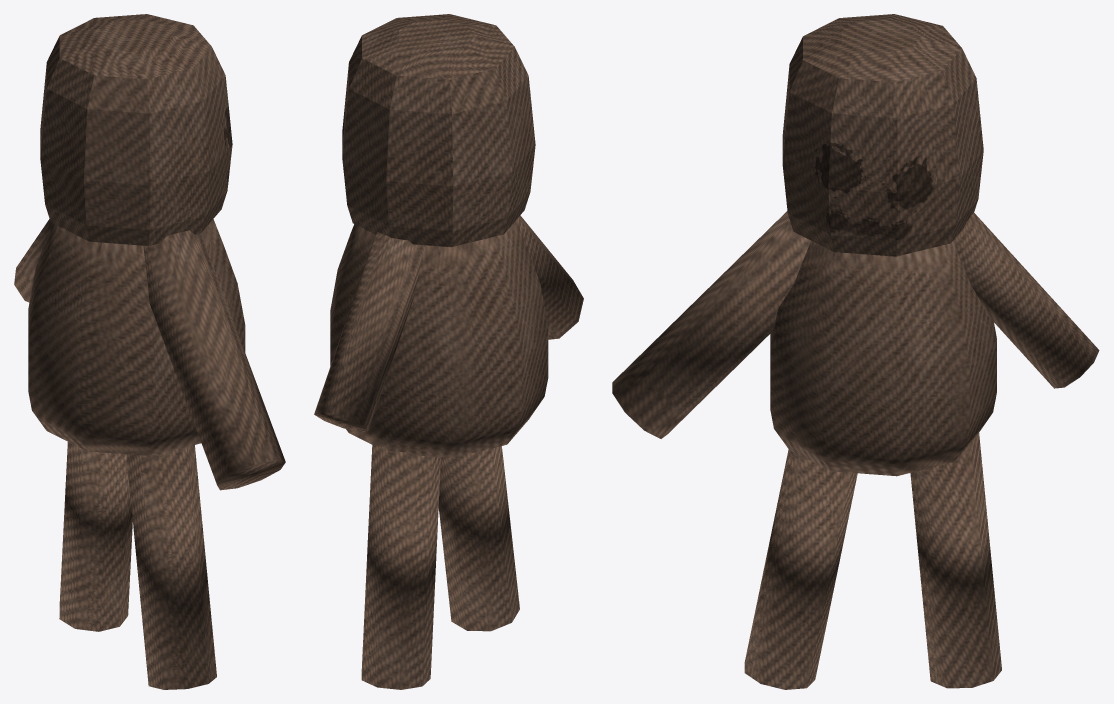
The model's file is Doll Good.fbx.
The picture shows the model from 3 angles, left to right: view 1: azimuth 30°, elevation 25°; view 2: azimuth 150°, elevation 25°; view 3: azimuth 270°, elevation 25°; orthographic projection. The views are drawn at different scales.
Parts seen in each view (by area): view 1: Body.001; view 2: Body.001; view 3: Body.001.
Part boxes in pixels (x1=…): Body.001: x1=14, y1=14, x2=285, y2=689; Body.001: x1=314, y1=14, x2=583, y2=689; Body.001: x1=612, y1=14, x2=1099, y2=689.
Size of the model in its own units: 238 by 734 by 504.
